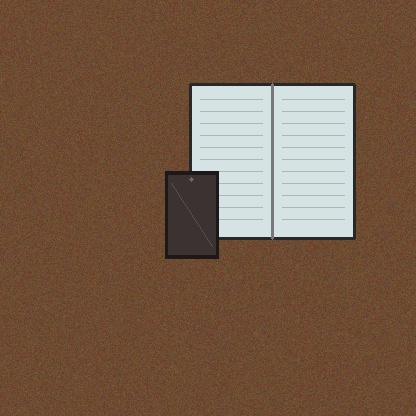book: (190, 84, 354, 238)
cell_phone: (165, 171, 218, 258)
